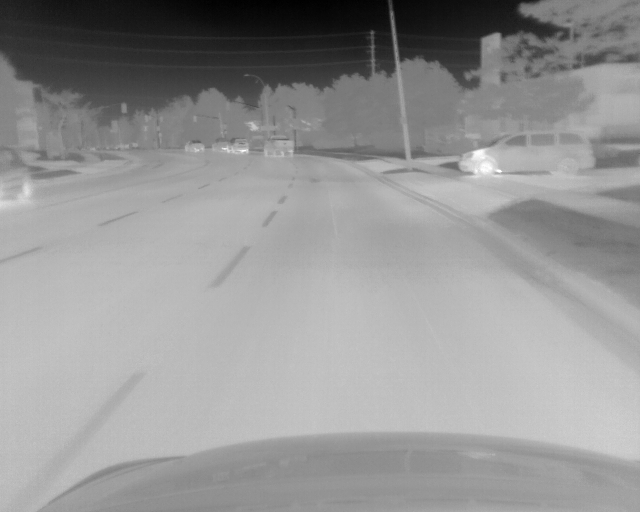car: (456, 130, 596, 177), (1, 147, 35, 203), (263, 135, 294, 157), (231, 138, 249, 154), (184, 139, 206, 152), (213, 137, 230, 152)
